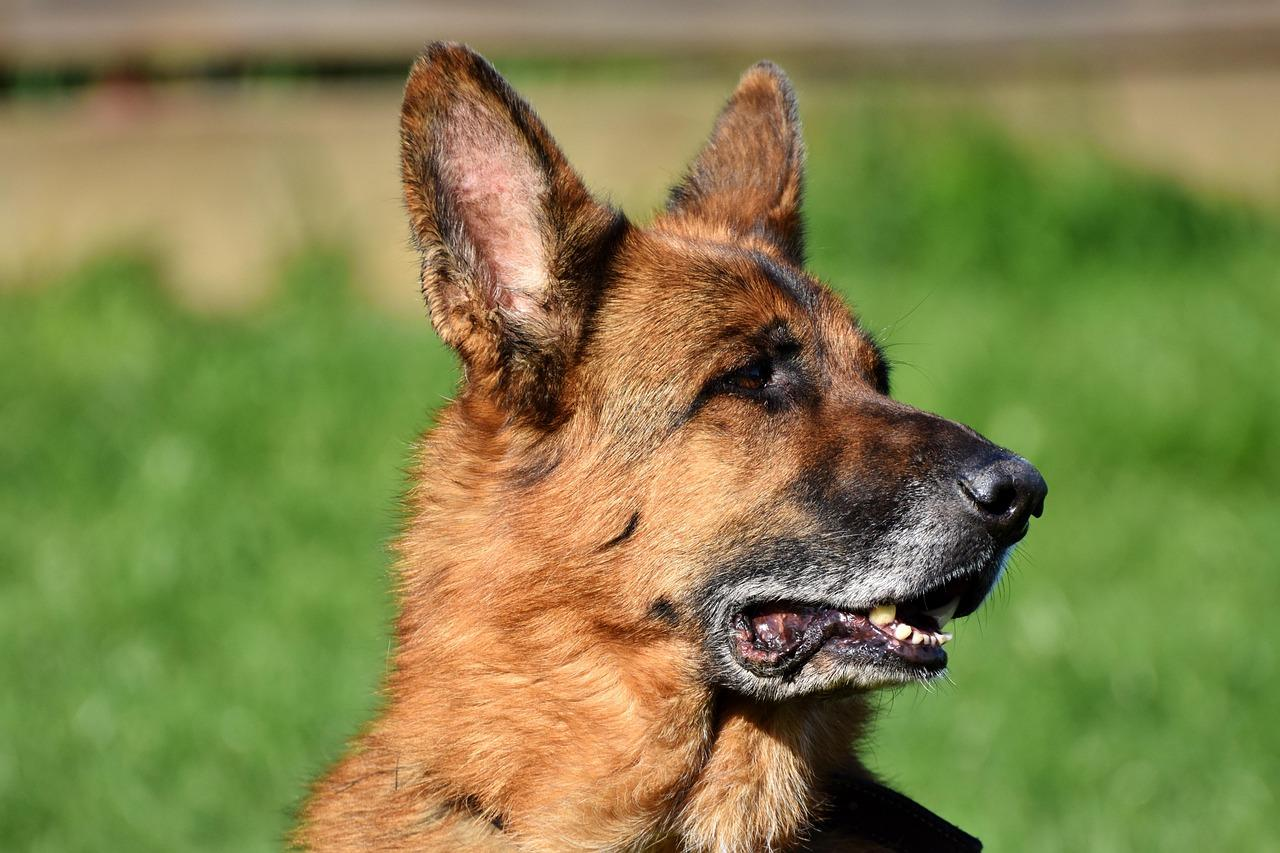german_shepherd: (404, 36, 1082, 742)
